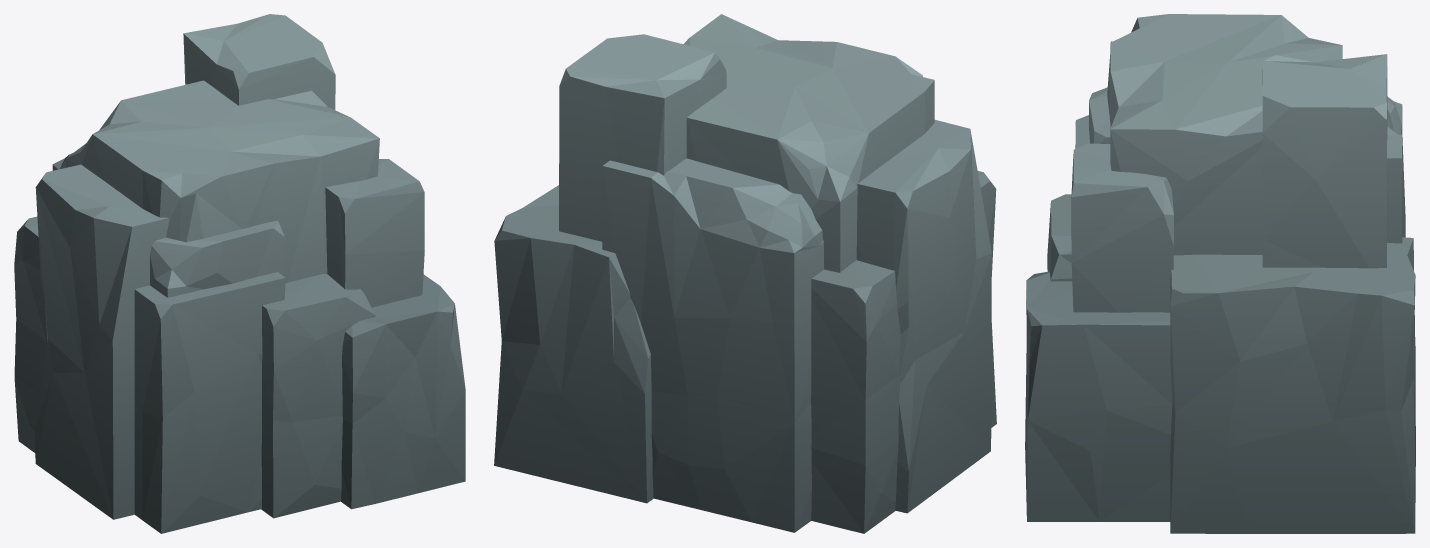
The model's file is BigRock_01.fbx.
3 views of the same model, side by side, from view 1: azimuth 30°, elevation 25°; view 2: azimuth 150°, elevation 25°; view 3: azimuth 270°, elevation 25° (orthographic). The views are drawn at different scales.
Visible parts, largest first — view 1: BigRock_01; view 2: BigRock_01; view 3: BigRock_01.
Boxes of the visible parts, left/top/right/bottom form: BigRock_01: left=14, top=14, right=465, bottom=533; BigRock_01: left=494, top=14, right=996, bottom=533; BigRock_01: left=1025, top=14, right=1415, bottom=533.
Size of the model in its own units: 4.67 by 4.82 by 4.25.
